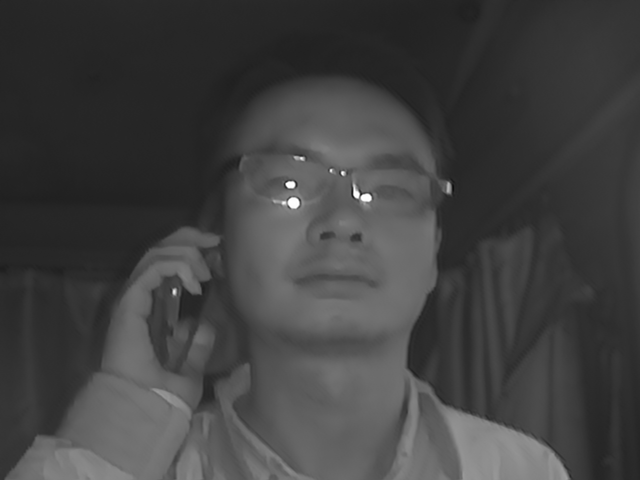hand: (98, 225, 222, 403)
